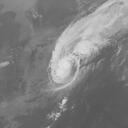cyclone: (46, 49, 84, 93)
